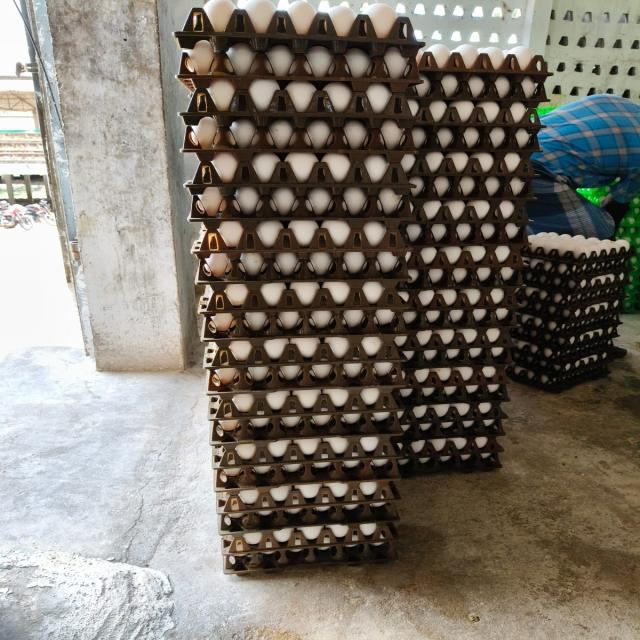egg_tray: (203, 288, 516, 392), (190, 154, 526, 244), (189, 152, 529, 240), (183, 43, 417, 159), (183, 44, 417, 159), (199, 253, 517, 334), (196, 220, 407, 336), (209, 365, 506, 442), (190, 152, 411, 255), (211, 388, 399, 509), (193, 218, 525, 284), (400, 287, 516, 475), (187, 153, 410, 250), (187, 152, 411, 248), (198, 252, 409, 353), (215, 436, 398, 552), (176, 2, 419, 88), (181, 76, 417, 159), (194, 221, 410, 308), (182, 79, 415, 159), (509, 234, 627, 391), (214, 387, 399, 487), (174, 0, 421, 74), (398, 327, 511, 475), (201, 289, 516, 341), (189, 155, 412, 228), (217, 479, 398, 568), (220, 482, 397, 572), (185, 152, 411, 222), (178, 43, 420, 108), (408, 44, 548, 155), (212, 406, 399, 488), (193, 219, 407, 290), (408, 101, 539, 206), (217, 481, 398, 552), (192, 218, 407, 277), (402, 243, 521, 349), (199, 280, 409, 340), (180, 80, 418, 128), (397, 365, 507, 468), (407, 223, 525, 319), (204, 336, 402, 393), (215, 430, 397, 491), (209, 387, 403, 444), (403, 200, 526, 288), (182, 116, 414, 162), (210, 389, 402, 444), (209, 386, 402, 440), (407, 128, 533, 210), (400, 244, 521, 329), (399, 245, 521, 329), (396, 301, 516, 386), (396, 384, 508, 475), (214, 436, 398, 491), (396, 385, 508, 475), (396, 384, 508, 474), (217, 481, 399, 536), (209, 386, 401, 438), (186, 152, 410, 196), (201, 294, 406, 342), (213, 435, 398, 488), (519, 233, 630, 320), (216, 479, 399, 531), (405, 173, 530, 249), (405, 222, 525, 300), (222, 520, 397, 573), (196, 247, 408, 290), (204, 336, 402, 382), (223, 524, 396, 575), (415, 44, 550, 106), (215, 387, 396, 433), (508, 315, 619, 390), (396, 401, 507, 475), (508, 316, 619, 390), (406, 223, 525, 288), (416, 45, 549, 103), (414, 100, 541, 156), (406, 223, 525, 282), (408, 126, 533, 181), (407, 62, 546, 109), (394, 367, 508, 424), (414, 100, 541, 151), (402, 348, 511, 405), (399, 385, 508, 441), (407, 67, 546, 110), (222, 522, 397, 556), (523, 249, 629, 304), (223, 542, 397, 575), (512, 306, 620, 358), (411, 193, 527, 240), (513, 314, 620, 363), (399, 392, 506, 441), (395, 326, 512, 370), (522, 261, 629, 308), (522, 232, 630, 278), (412, 120, 539, 158), (509, 345, 611, 390), (397, 400, 506, 442), (399, 285, 518, 323), (398, 433, 503, 475), (409, 172, 532, 207), (398, 436, 503, 477), (407, 255, 521, 292), (509, 349, 611, 390), (512, 318, 619, 357), (523, 246, 629, 283), (518, 274, 627, 309), (517, 309, 620, 346), (515, 327, 617, 364), (518, 287, 623, 322), (509, 356, 610, 392), (523, 265, 629, 297), (398, 307, 516, 334), (518, 280, 624, 309), (403, 363, 507, 389), (519, 297, 622, 323), (617, 198, 639, 312), (223, 391, 298, 408), (617, 196, 639, 253), (618, 197, 639, 250), (617, 212, 639, 254), (625, 255, 639, 312), (619, 196, 639, 234), (289, 220, 317, 244), (577, 186, 610, 206), (433, 289, 470, 304), (623, 278, 639, 312), (200, 260, 224, 282), (484, 104, 512, 122), (628, 236, 639, 281), (431, 128, 465, 142), (329, 527, 355, 545), (623, 285, 639, 313), (349, 49, 372, 66), (628, 254, 639, 289), (406, 312, 427, 330), (326, 154, 344, 174), (626, 271, 639, 298), (201, 298, 226, 312), (277, 259, 298, 275), (238, 490, 265, 501), (196, 240, 224, 250), (507, 176, 524, 191), (441, 128, 455, 146), (261, 238, 284, 248), (491, 287, 506, 302), (315, 388, 343, 396), (377, 260, 395, 272), (351, 390, 373, 399), (512, 104, 526, 117), (521, 287, 540, 296), (430, 152, 443, 165), (483, 365, 495, 378), (472, 308, 485, 320), (451, 271, 465, 282), (428, 152, 442, 162), (425, 462, 440, 471), (316, 531, 331, 540), (429, 271, 440, 283), (453, 272, 466, 282), (479, 271, 490, 282), (431, 271, 441, 283), (458, 226, 468, 238), (382, 411, 390, 425), (411, 228, 419, 242), (501, 271, 512, 281), (356, 260, 366, 271), (493, 288, 504, 298), (333, 238, 345, 247), (452, 139, 462, 148), (401, 58, 410, 68), (472, 336, 483, 344), (253, 369, 265, 376), (243, 260, 252, 269), (254, 96, 263, 105), (447, 202, 457, 210), (511, 183, 519, 193), (401, 466, 412, 473), (443, 289, 458, 294), (380, 267, 388, 276), (425, 168, 435, 175), (363, 282, 380, 286), (236, 558, 244, 566), (509, 268, 516, 277), (438, 136, 444, 146), (233, 330, 243, 336), (235, 505, 245, 511), (512, 107, 520, 114), (375, 256, 382, 264), (583, 298, 591, 305), (266, 158, 273, 166), (297, 390, 305, 397), (459, 227, 466, 235), (375, 259, 383, 266), (398, 292, 406, 299), (494, 288, 503, 294), (247, 273, 260, 277), (227, 243, 237, 248), (412, 179, 419, 186), (301, 222, 308, 229), (469, 177, 476, 184), (450, 316, 458, 322), (426, 310, 434, 316), (365, 282, 380, 285), (383, 390, 392, 395), (484, 389, 493, 394), (443, 290, 454, 294), (203, 301, 207, 312), (581, 293, 595, 296), (493, 297, 500, 303), (366, 282, 380, 285), (441, 317, 447, 324), (390, 290, 397, 296), (421, 248, 428, 254), (427, 332, 433, 339), (449, 463, 457, 468), (349, 369, 357, 374), (434, 367, 444, 371), (460, 234, 468, 239), (391, 260, 396, 268), (238, 398, 243, 406), (260, 433, 273, 436), (612, 290, 616, 299), (494, 344, 503, 348), (225, 245, 237, 248), (373, 512, 379, 518), (585, 297, 590, 304), (303, 157, 310, 162), (322, 537, 327, 544), (385, 256, 390, 263), (477, 212, 482, 219), (325, 224, 336, 227), (394, 423, 398, 431), (415, 294, 419, 302), (506, 268, 512, 273), (375, 412, 381, 417), (367, 261, 373, 266), (279, 534, 285, 539), (308, 283, 314, 288), (283, 560, 288, 566), (317, 554, 322, 560), (214, 432, 218, 439), (547, 107, 556, 110), (236, 81, 245, 84), (441, 247, 450, 250), (367, 274, 376, 277), (445, 276, 450, 281), (314, 251, 319, 256), (435, 202, 439, 208), (491, 191, 495, 197), (559, 316, 565, 320), (330, 395, 334, 401), (229, 562, 235, 566), (404, 122, 410, 126), (229, 502, 233, 508), (202, 279, 209, 282), (462, 153, 466, 158), (450, 203, 454, 208), (292, 256, 296, 261), (405, 365, 409, 370), (342, 60, 346, 65), (461, 176, 466, 180), (327, 553, 332, 557), (452, 290, 457, 294), (368, 496, 373, 500), (540, 113, 546, 116), (287, 404, 290, 410), (271, 223, 277, 226), (450, 203, 456, 206), (505, 273, 508, 279), (404, 364, 407, 370), (236, 444, 244, 446), (493, 458, 497, 462), (405, 316, 409, 320), (221, 298, 225, 302), (233, 568, 237, 572), (342, 222, 346, 226), (484, 210, 488, 214), (617, 240, 625, 242), (306, 431, 311, 434), (517, 107, 520, 112), (227, 225, 232, 228), (474, 394, 479, 397), (412, 305, 417, 308), (371, 324, 374, 329), (241, 243, 244, 248), (263, 225, 268, 228), (433, 336, 435, 343), (445, 247, 458, 248), (315, 51, 319, 54), (347, 167, 350, 171), (491, 108, 494, 112), (254, 245, 258, 248), (375, 390, 379, 393), (429, 116, 433, 119), (488, 294, 490, 300), (315, 283, 319, 286), (492, 162, 495, 166), (363, 242, 366, 246), (280, 223, 283, 227), (292, 283, 303, 284), (431, 112, 433, 117), (421, 460, 426, 462), (573, 305, 583, 306), (356, 167, 361, 169), (339, 282, 344, 284), (263, 225, 268, 227), (390, 292, 395, 294), (454, 311, 459, 313), (225, 438, 228, 441), (463, 154, 466, 157), (436, 448, 439, 451), (483, 440, 486, 443), (423, 393, 426, 396), (394, 302, 397, 305), (309, 52, 312, 55), (283, 174, 286, 177), (299, 172, 302, 175), (398, 296, 401, 299), (323, 283, 326, 286), (345, 283, 348, 286), (278, 384, 281, 387), (267, 234, 270, 237), (381, 255, 384, 258), (426, 203, 429, 206), (318, 289, 321, 292), (434, 106, 437, 109), (474, 291, 477, 294), (417, 144, 420, 147), (337, 100, 340, 103), (490, 110, 494, 112), (305, 303, 309, 305), (278, 176, 280, 180), (361, 402, 363, 406), (367, 255, 371, 257), (534, 116, 536, 120), (526, 326, 530, 328), (445, 160, 449, 162), (495, 300, 499, 302), (232, 496, 234, 500), (230, 285, 237, 286), (394, 420, 396, 423), (386, 392, 388, 395), (491, 107, 494, 109), (203, 263, 205, 266), (457, 341, 459, 344), (308, 532, 310, 535), (459, 136, 460, 142), (447, 278, 450, 280), (323, 283, 325, 286), (205, 176, 208, 178), (490, 316, 492, 319), (287, 384, 290, 386), (212, 410, 215, 412), (537, 318, 540, 320), (281, 82, 284, 84), (192, 119, 195, 121), (292, 87, 294, 90), (473, 294, 476, 296), (482, 58, 485, 60), (343, 223, 345, 226), (407, 325, 410, 327), (540, 312, 543, 314), (229, 225, 231, 228), (228, 334, 231, 336), (426, 290, 429, 292), (470, 290, 476, 291), (281, 283, 283, 286), (339, 283, 345, 284), (485, 162, 487, 165), (456, 156, 459, 158), (263, 69, 266, 71), (227, 243, 233, 244), (267, 234, 270, 236), (499, 218, 501, 221), (407, 324, 410, 326), (278, 501, 284, 502), (363, 514, 365, 517), (375, 505, 381, 506), (405, 156, 410, 157), (247, 444, 249, 446), (575, 296, 577, 298), (517, 120, 521, 121), (378, 267, 380, 269), (433, 453, 435, 455), (501, 341, 503, 343), (486, 337, 488, 339), (425, 294, 429, 295), (376, 180, 378, 182), (443, 313, 445, 315), (387, 390, 389, 392), (361, 390, 365, 391), (246, 80, 248, 82), (258, 8, 260, 10), (417, 191, 419, 193), (403, 295, 405, 297), (194, 204, 196, 206), (516, 120, 520, 121), (403, 155, 405, 157), (259, 398, 260, 402), (437, 203, 439, 205), (213, 138, 214, 142), (524, 326, 526, 328), (495, 178, 497, 180), (472, 159, 474, 161), (426, 290, 428, 292), (459, 156, 461, 158), (357, 231, 359, 233), (228, 225, 230, 227), (420, 216, 422, 218), (519, 215, 521, 217), (457, 248, 459, 250), (476, 148, 478, 150), (478, 148, 480, 150), (269, 509, 271, 511), (276, 434, 279, 435), (217, 416, 220, 417), (458, 441, 459, 444), (465, 189, 468, 190), (340, 283, 343, 284), (494, 300, 497, 301), (367, 489, 370, 490), (593, 278, 596, 279), (446, 145, 448, 146), (251, 445, 253, 446), (454, 154, 456, 155), (435, 120, 437, 121), (507, 354, 508, 356), (404, 346, 405, 348), (328, 530, 330, 531), (242, 435, 243, 437), (324, 50, 326, 51), (238, 45, 240, 46), (205, 295, 206, 297), (344, 283, 346, 284), (269, 176, 271, 177), (317, 480, 319, 481), (290, 465, 292, 466), (402, 123, 404, 124), (390, 276, 392, 277), (426, 243, 428, 244), (195, 202, 196, 204), (512, 112, 514, 113), (425, 52, 427, 53), (625, 238, 627, 239), (465, 155, 466, 157), (513, 154, 515, 155), (505, 268, 507, 269), (465, 303, 466, 305), (462, 158, 463, 160), (245, 242, 246, 244), (355, 232, 357, 233), (261, 109, 263, 110), (388, 485, 390, 486), (634, 208, 635, 210), (600, 276, 602, 277), (422, 394, 423, 396), (442, 274, 443, 275), (438, 110, 439, 111), (514, 272, 515, 273), (380, 269, 381, 270), (403, 418, 404, 419), (447, 207, 448, 208), (388, 78, 389, 79), (318, 283, 319, 284), (436, 318, 437, 319), (260, 278, 261, 279), (300, 265, 301, 266), (291, 216, 292, 217), (487, 165, 488, 166), (360, 225, 361, 226), (287, 225, 288, 226), (205, 238, 206, 239), (461, 207, 462, 208), (527, 323, 528, 324), (489, 282, 490, 283), (346, 285, 347, 286), (427, 218, 428, 219), (329, 560, 330, 561), (611, 274, 612, 275), (470, 383, 470, 383), (257, 454, 257, 454), (417, 214, 417, 214), (461, 152, 462, 152), (429, 110, 430, 110), (419, 56, 419, 57), (494, 464, 494, 466), (487, 463, 487, 463), (404, 463, 406, 463), (412, 270, 412, 271), (435, 454, 437, 454), (482, 445, 483, 445), (492, 344, 492, 346), (272, 527, 272, 528), (278, 436, 278, 436), (389, 299, 390, 299), (284, 48, 285, 48), (492, 290, 493, 290), (196, 183, 197, 183), (261, 167, 261, 170), (274, 166, 274, 168), (451, 354, 453, 354), (403, 307, 403, 308), (216, 434, 217, 434), (598, 270, 599, 270), (547, 112, 548, 112), (396, 410, 396, 416), (288, 403, 288, 404), (425, 388, 426, 388), (363, 54, 364, 54), (274, 344, 275, 344), (406, 156, 410, 156), (443, 236, 443, 236), (457, 439, 458, 439), (334, 276, 337, 276), (360, 132, 361, 132), (360, 125, 360, 126), (369, 528, 370, 528), (539, 263, 539, 264), (437, 301, 438, 301), (282, 83, 283, 83), (500, 434, 502, 434), (454, 190, 454, 190), (342, 332, 344, 332), (421, 292, 421, 292), (532, 125, 532, 126), (443, 103, 443, 104), (302, 243, 304, 243), (452, 138, 452, 140), (523, 232, 523, 234), (410, 330, 410, 330), (503, 302, 503, 304), (484, 276, 486, 276), (342, 101, 343, 101), (255, 492, 256, 492), (296, 512, 297, 512), (334, 510, 334, 510)
